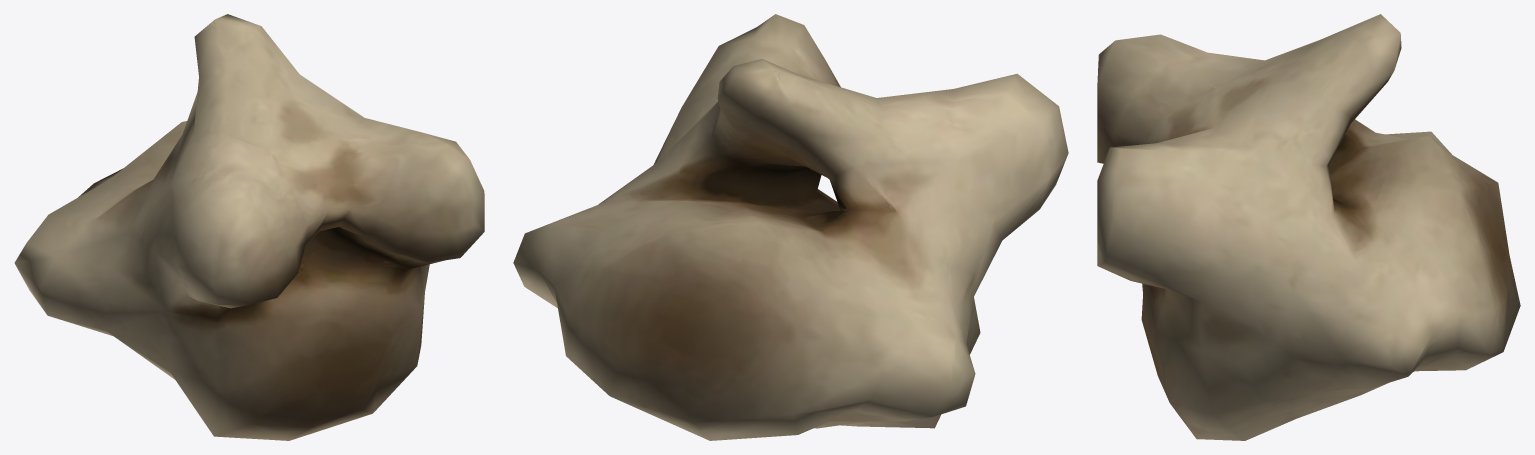
Rendered from Caudal_Vertebrae3.glb.
3 renders of one model, left to right at view 1: azimuth 30°, elevation 25°; view 2: azimuth 150°, elevation 25°; view 3: azimuth 270°, elevation 25°, orthographic. The views are drawn at different scales.
Visible parts, largest first — view 1: Caudal_Vertebrae_22:Group37173; view 2: Caudal_Vertebrae_22:Group37173; view 3: Caudal_Vertebrae_22:Group37173.
Part boxes in pixels (<box>): Caudal_Vertebrae_22:Group37173: <box>14,14,484,440</box>; Caudal_Vertebrae_22:Group37173: <box>513,14,1068,440</box>; Caudal_Vertebrae_22:Group37173: <box>1097,14,1520,440</box>.
Bounding box in the file's own units: 15.52 × 13.78 × 13.12.
1 material, 1 textured.
